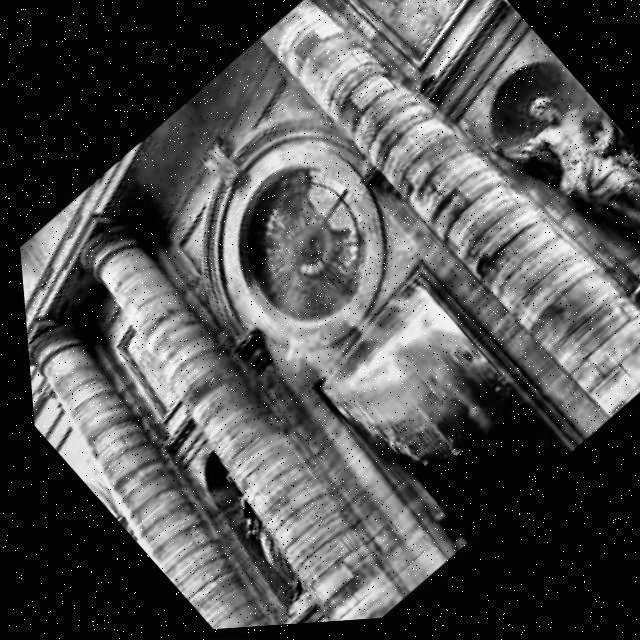Fire: (261, 247, 481, 457), (275, 150, 376, 256)
